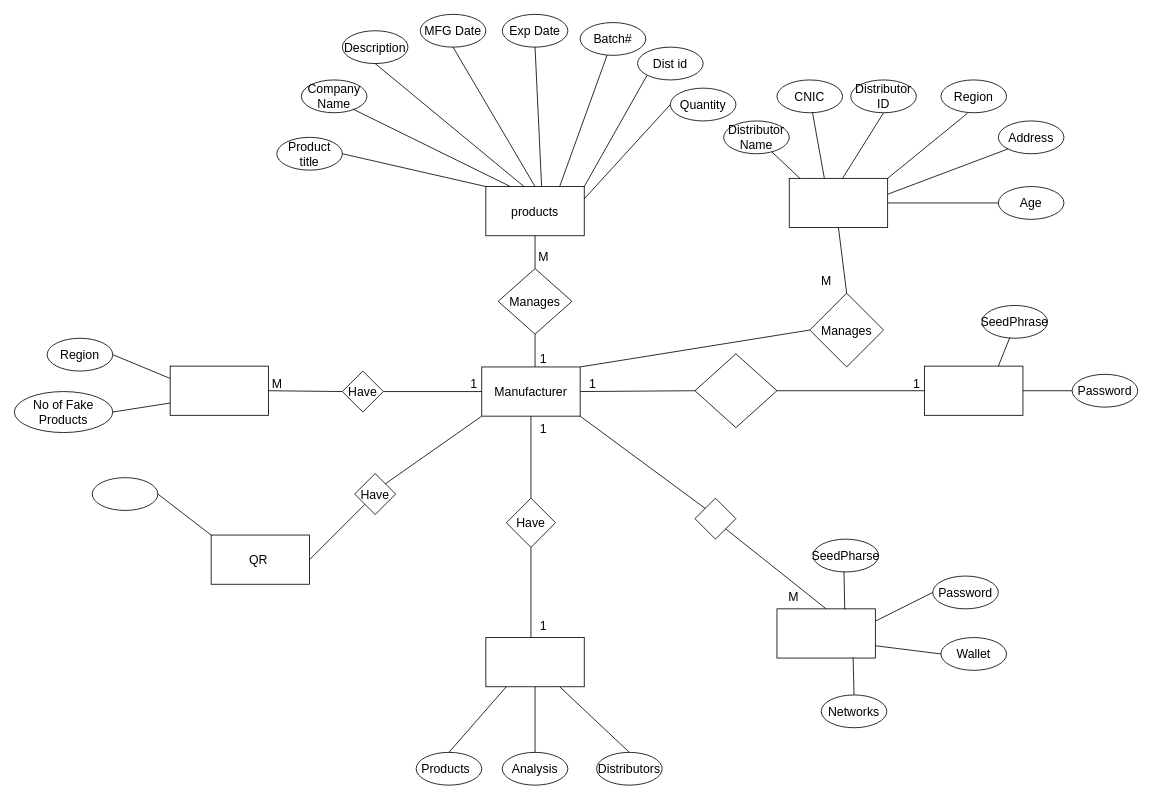
This 1152x800 diagram has some shape labels left out. Here are the shapes that lost their labels. From the top down, the box of each, then its label:
(788, 178, 888, 228): Distributor
(169, 365, 269, 415): Analytics
(694, 353, 777, 428): Connects to
(924, 365, 1023, 415): MetaMask
(91, 477, 158, 510): QR_key
(694, 497, 736, 539): Has
(776, 608, 875, 658): Account
(485, 637, 584, 687): Manufacture Panel
